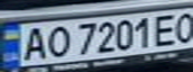0: (115, 16, 136, 52)
1: (130, 15, 154, 48)
2: (93, 18, 118, 54)
7: (72, 20, 96, 56)
A: (18, 25, 51, 61)
E: (148, 11, 184, 46)
O: (42, 24, 72, 58), (172, 9, 193, 44)
